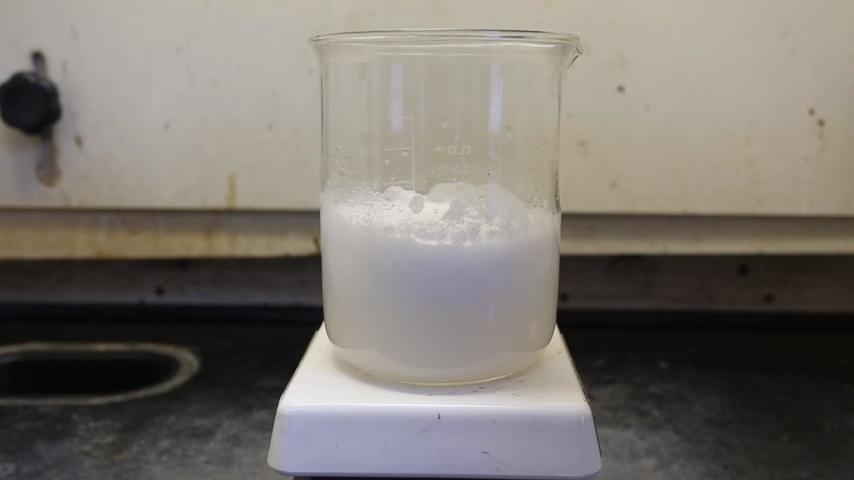Beaker: (297, 20, 586, 387)
